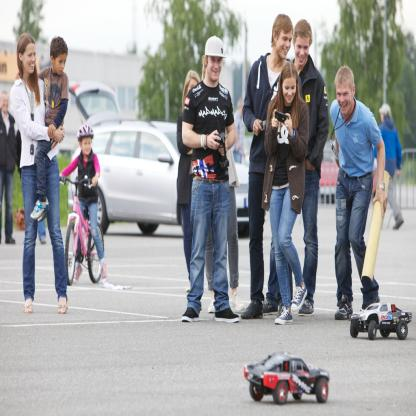Helmet: (203, 34, 227, 58), (77, 123, 93, 155)
